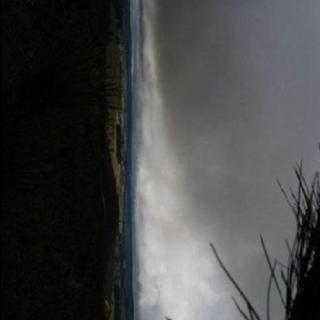Stratus: (129, 0, 320, 320)
